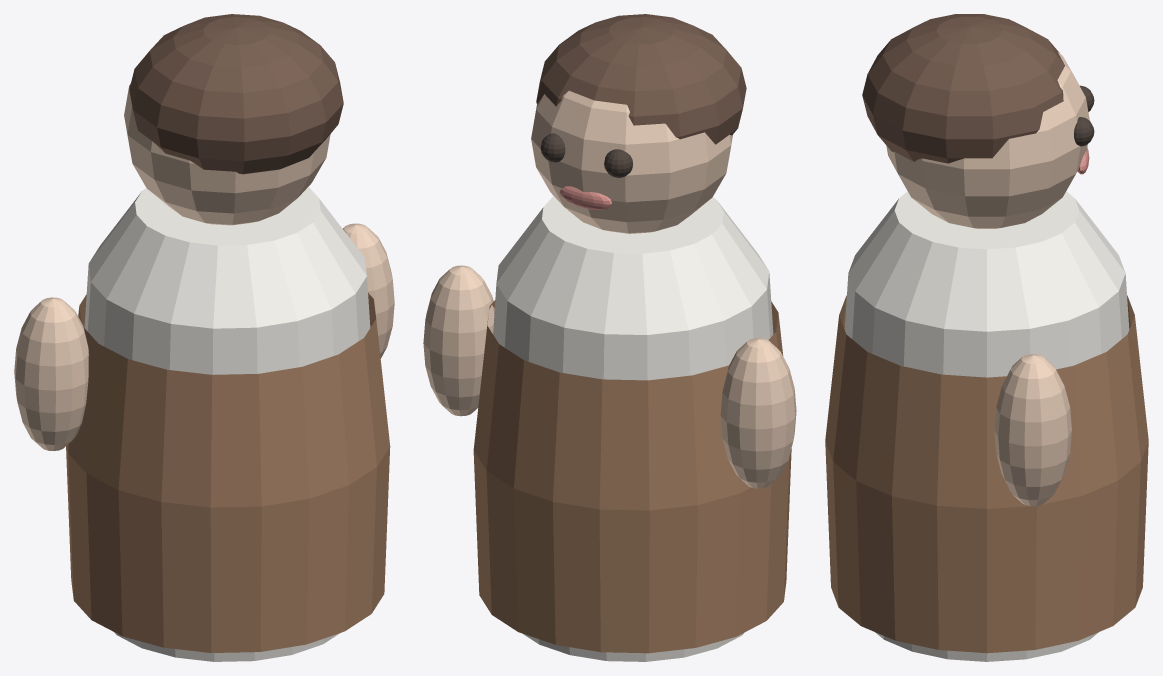
The model's file is char_barista.glb.
3 renders of one model, left to right at view 1: azimuth 30°, elevation 25°; view 2: azimuth 150°, elevation 25°; view 3: azimuth 270°, elevation 25°, orthographic.
Parts seen in each view (by area): view 1: Apron, Body, Hair, Head, ArmL, ArmR; view 2: Apron, Body, Hair, Head, ArmL, ArmR, Smile, EyeL, EyeR; view 3: Apron, Body, Hair, Head, ArmR.
Boxes of the visible parts, x1=… form: Apron: x1=66, y1=293, x2=390, y2=652; Body: x1=84, y1=187, x2=370, y2=661; Hair: x1=129, y1=14, x2=343, y2=174; Head: x1=124, y1=83, x2=330, y2=225; ArmL: x1=14, y1=297, x2=88, y2=450; ArmR: x1=343, y1=223, x2=394, y2=358; Apron: x1=473, y1=300, x2=791, y2=653; Body: x1=493, y1=196, x2=773, y2=661; Hair: x1=536, y1=14, x2=746, y2=144; Head: x1=531, y1=91, x2=732, y2=233; ArmL: x1=720, y1=338, x2=796, y2=488; ArmR: x1=423, y1=265, x2=494, y2=416; Smile: x1=559, y1=186, x2=612, y2=209; EyeL: x1=604, y1=149, x2=632, y2=177; EyeR: x1=540, y1=133, x2=565, y2=162; Apron: x1=825, y1=295, x2=1148, y2=653; Body: x1=844, y1=191, x2=1129, y2=661; Hair: x1=862, y1=14, x2=1064, y2=163; Head: x1=886, y1=52, x2=1089, y2=228; ArmR: x1=994, y1=354, x2=1071, y2=506.
Bounding box in the file's own units: 0.3655 × 0.5551 × 0.28.
